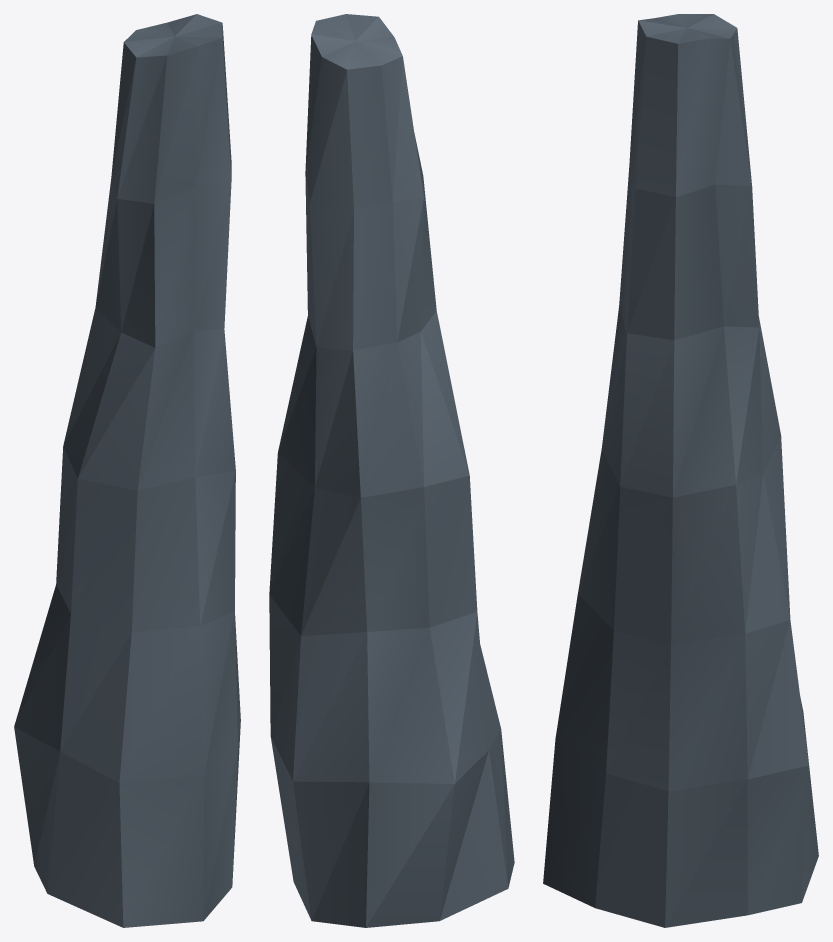
The model's file is iron-stack.glb.
The picture shows the model from 3 angles, left to right: view 1: azimuth 30°, elevation 25°; view 2: azimuth 150°, elevation 25°; view 3: azimuth 270°, elevation 25°; orthographic projection. The views are drawn at different scales.
Bounding box in the file's own units: 3.27 × 13.24 × 3.73.
